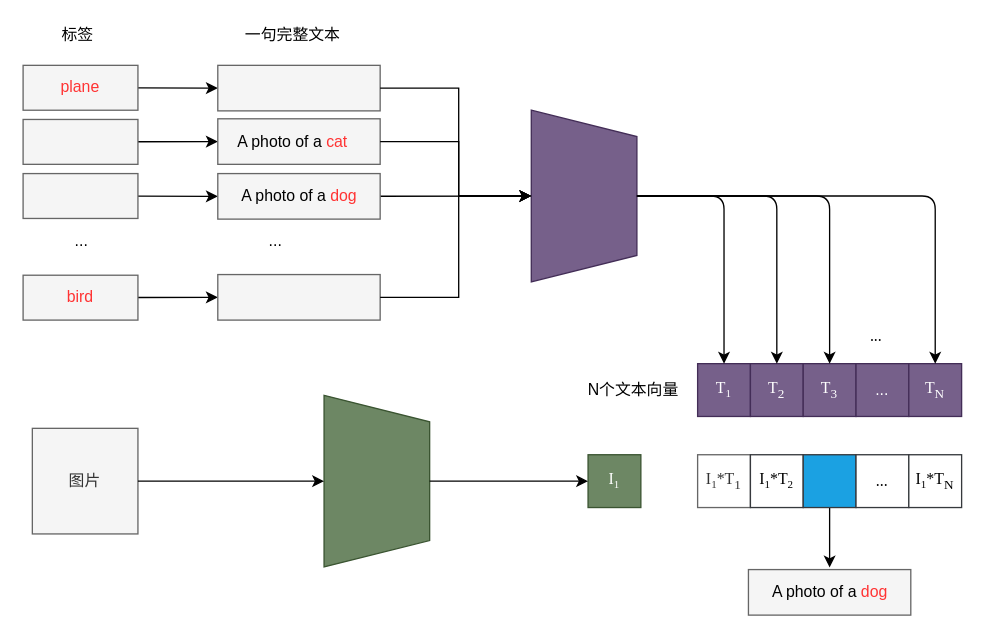
This 985x639 diagram has some shape labels left out. Each missing label, with the centre of its shape:
"A photo of a bird" belongs at point 298,296.
"A photo of a plane" belongs at point 298,87.
"car" belongs at point 80,141.
"dog" belongs at point 80,195.
"I 1 *T 3" belongs at point 829,480.
"图片编码器" belongs at point 376,480.
"文本编码器" belongs at point 583,195.
